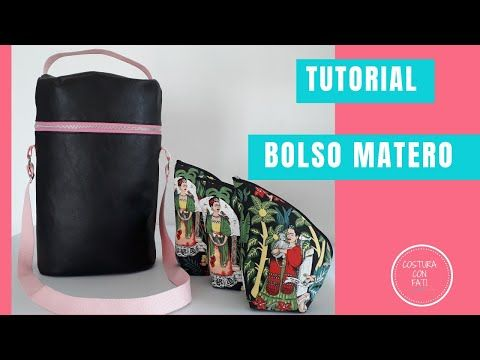cuero: (34, 71, 162, 277)
